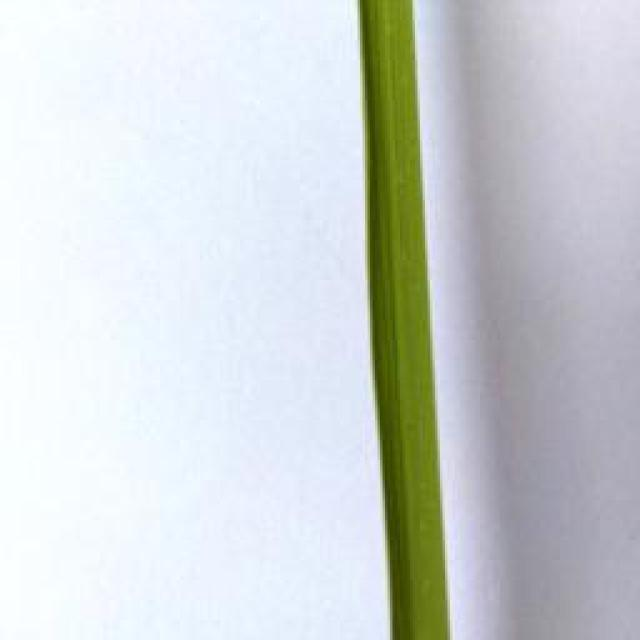Healthy: (361, 0, 451, 640)
